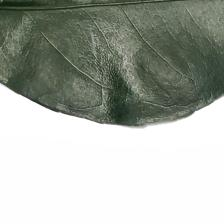healthy: (0, 1, 224, 144)
